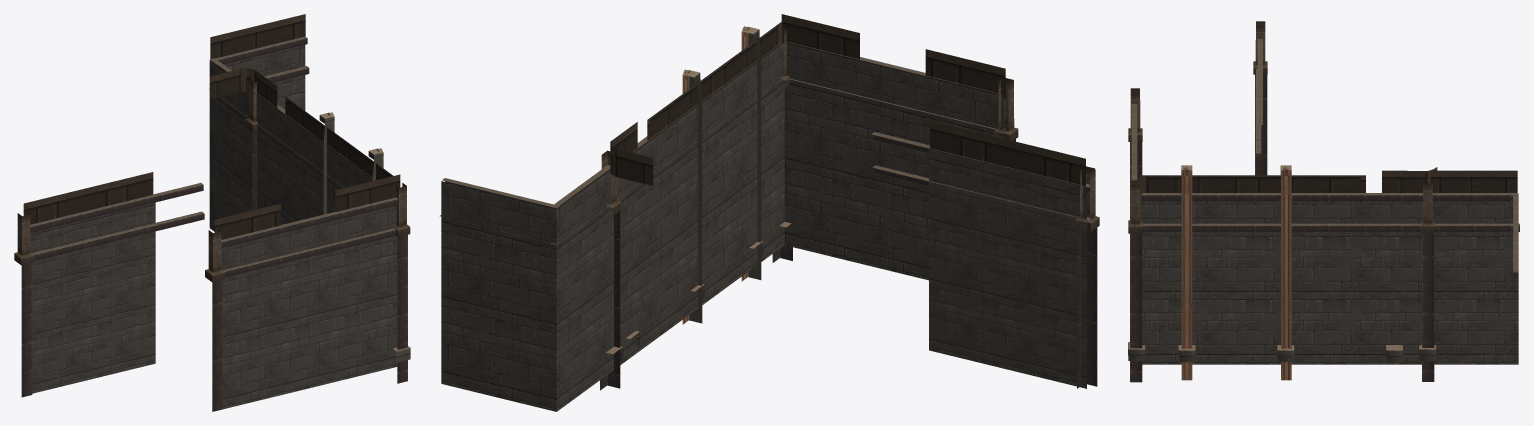
File: terrain_section03_guanka1110.FBX
3 views of the same model, side by side, from view 1: azimuth 30°, elevation 25°; view 2: azimuth 150°, elevation 25°; view 3: azimuth 270°, elevation 25° (orthographic). The views are drawn at different scales.
Parts seen in each view (by area): view 1: terrain_section03_guanka1110; view 2: terrain_section03_guanka1110; view 3: terrain_section03_guanka1110.
Boxes of the visible parts, x1,y1,x2,y2 form: terrain_section03_guanka1110: [14, 14, 410, 411]; terrain_section03_guanka1110: [439, 14, 1099, 411]; terrain_section03_guanka1110: [1128, 21, 1519, 382].
Bounding box in the file's own units: 61.29 × 29.87 × 49.27.
